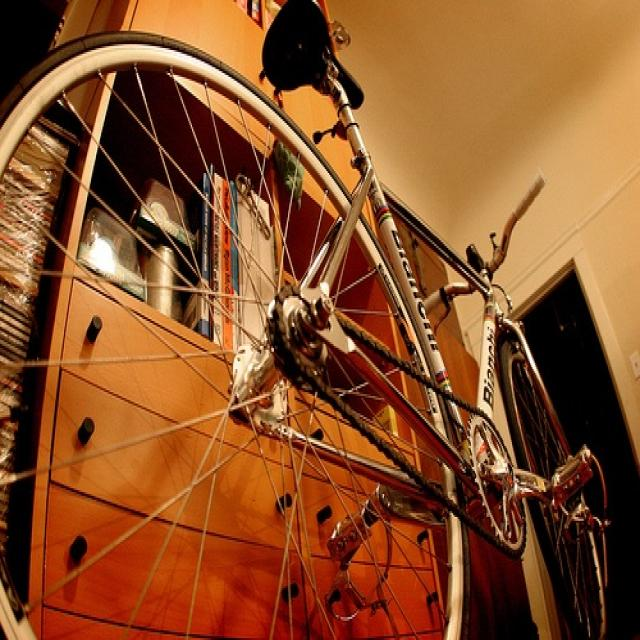bicycle: (0, 0, 612, 638)
